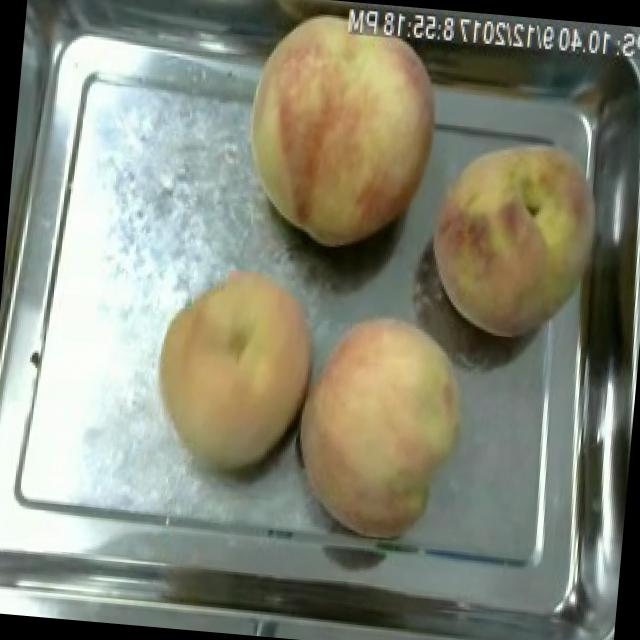Fruit: (230, 0, 455, 265), (279, 301, 477, 548), (411, 121, 615, 354), (136, 250, 333, 487)
